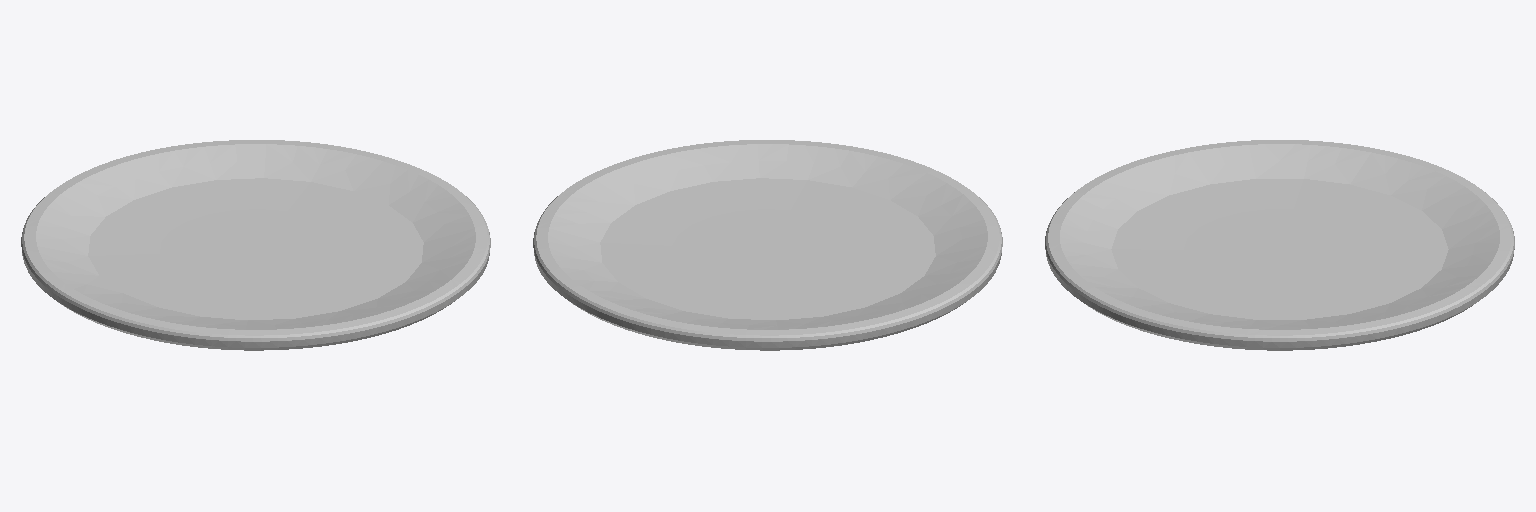
Rendered from plate.obj.
The picture shows the model from 3 angles: view 1: azimuth 30°, elevation 25°; view 2: azimuth 150°, elevation 25°; view 3: azimuth 270°, elevation 25°; orthographic projection.
Parts seen in each view (by area): view 1: nurbsToPoly1; view 2: nurbsToPoly1; view 3: nurbsToPoly1.
Boxes of the visible parts, <box> form: nurbsToPoly1: <box>21,140,490,350</box>; nurbsToPoly1: <box>533,140,1002,350</box>; nurbsToPoly1: <box>1045,140,1514,350</box>.
Bounding box in the file's own units: 5.53 × 0.4938 × 5.53.